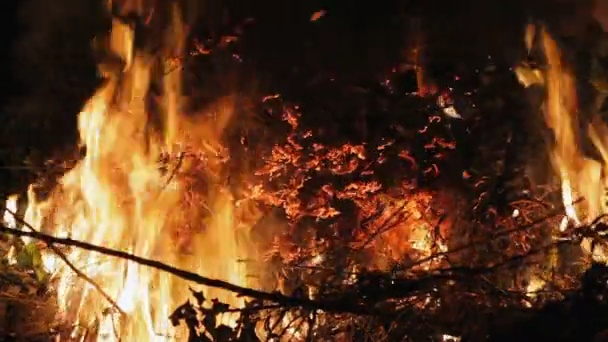fire: (1, 20, 244, 342), (541, 67, 608, 265), (405, 203, 433, 256), (526, 277, 538, 289)
